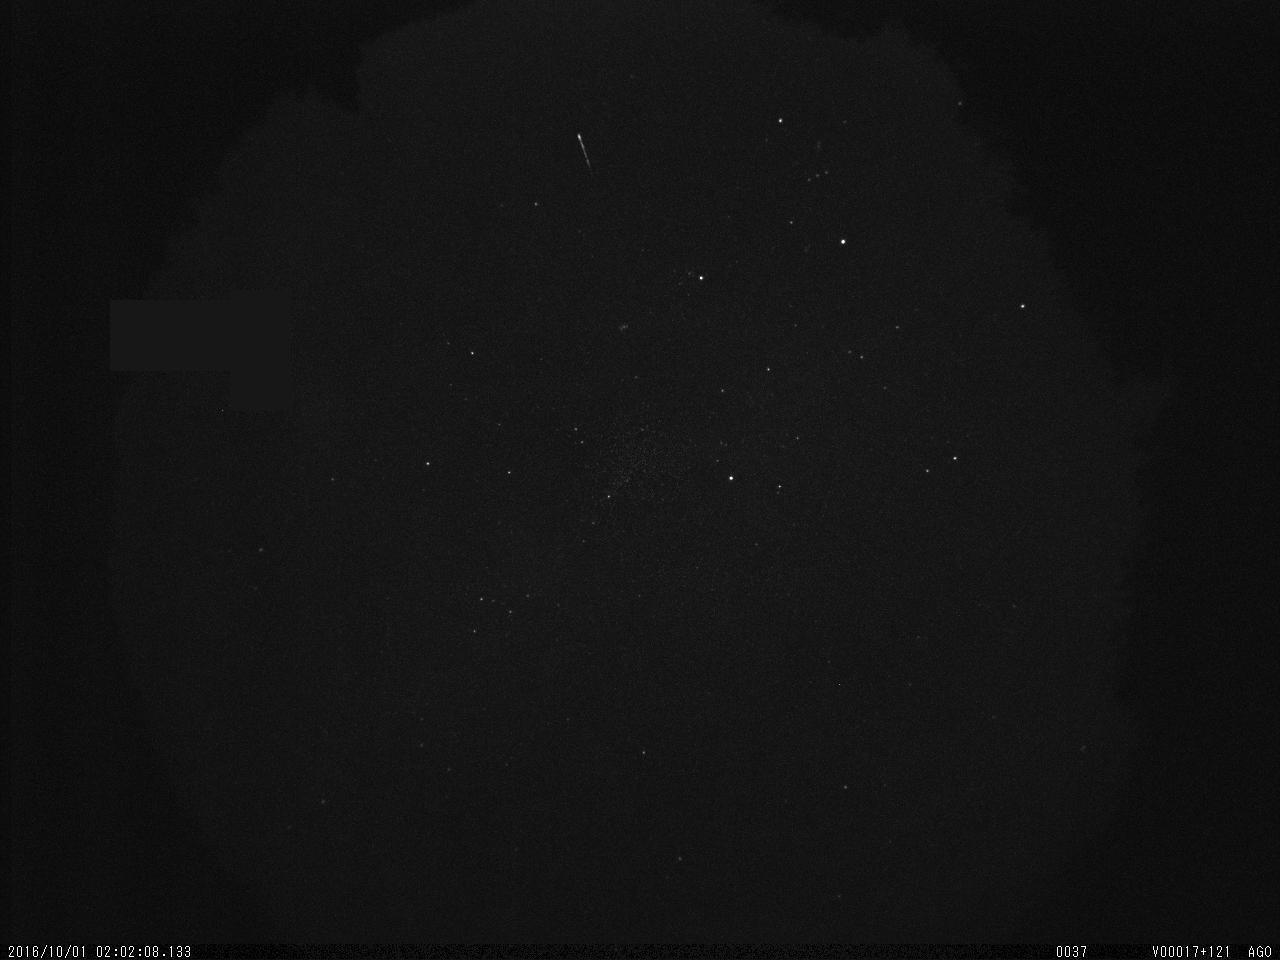Meteor: (574, 130, 593, 172)
